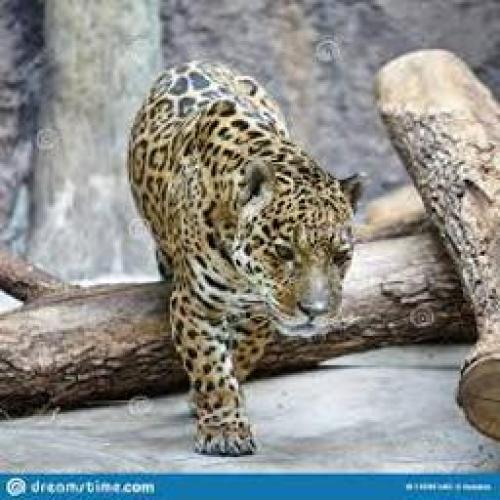amur_leopard-endangered: (124, 56, 356, 460)
